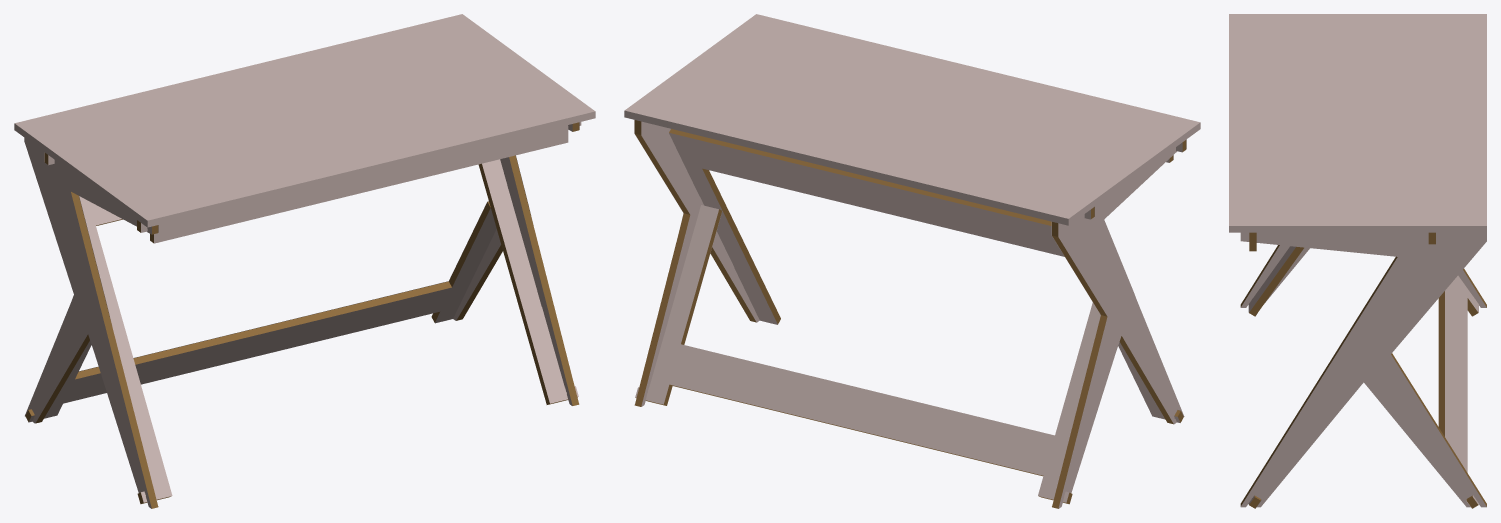
Rendered from NODO_ESCRITORIO_ESCULTORICO_PARAISO_AR_V14_YUP_CENTRADO.glb.
3 renders of one model, left to right at view 1: azimuth 30°, elevation 25°; view 2: azimuth 150°, elevation 25°; view 3: azimuth 270°, elevation 25°, orthographic. The views are drawn at different scales.
Parts seen in each view (by area): view 1: G_Tapa_Superior_CARAS_COLOR_REAL, B_Escuadra_Trasera_PIEL_LISA_-1, D_Lateral_Izq_PIEL_LISA_-1, F_Traba_Delantera_PIEL_LISA_-1, A_Escuadra_Delantera_cuerpo, G_Tapa_Superior_CANTO_MDF, B_Escuadra_Trasera_canto, D_Lateral_Izq_canto, A_Escuadra_Delantera_PIEL_LISA_-1, C_Lateral_Der_canto, D_Lateral_Izq_cuerpo, C_Lateral_Der_PIEL_LISA_-1 (+2 smaller); view 2: G_Tapa_Superior_CARAS_COLOR_REAL, B_Escuadra_Trasera_PIEL_LISA_1, A_Escuadra_Delantera_PIEL_LISA_1, D_Lateral_Izq_PIEL_LISA_-1, G_Tapa_Superior_CANTO_MDF, C_Lateral_Der_PIEL_LISA_-1, A_Escuadra_Delantera_canto, D_Lateral_Izq_canto, C_Lateral_Der_canto, A_Escuadra_Delantera_cuerpo, D_Lateral_Izq_cuerpo, B_Escuadra_Trasera_canto (+1 smaller); view 3: G_Tapa_Superior_CARAS_COLOR_REAL, C_Lateral_Der_PIEL_LISA_1, B_Escuadra_Trasera_PIEL_LISA_1, C_Lateral_Der_cuerpo, G_Tapa_Superior_CANTO_MDF, B_Escuadra_Trasera_canto, C_Lateral_Der_canto, D_Lateral_Izq_cuerpo, A_Escuadra_Delantera_canto, D_Lateral_Izq_PIEL_LISA_1.
Boxes of the visible parts, left/top/right/bottom form: G_Tapa_Superior_CARAS_COLOR_REAL: left=15, top=14, right=595, bottom=220; B_Escuadra_Trasera_PIEL_LISA_-1: left=29, top=208, right=496, bottom=422; D_Lateral_Izq_PIEL_LISA_-1: left=24, top=137, right=151, bottom=508; F_Traba_Delantera_PIEL_LISA_-1: left=141, top=122, right=581, bottom=243; A_Escuadra_Delantera_cuerpo: left=95, top=161, right=549, bottom=501; G_Tapa_Superior_CANTO_MDF: left=14, top=111, right=595, bottom=227; B_Escuadra_Trasera_canto: left=25, top=201, right=490, bottom=421; D_Lateral_Izq_canto: left=35, top=192, right=158, bottom=508; A_Escuadra_Delantera_PIEL_LISA_-1: left=79, top=159, right=578, bottom=502; C_Lateral_Der_canto: left=456, top=122, right=579, bottom=405; D_Lateral_Izq_cuerpo: left=25, top=192, right=151, bottom=508; C_Lateral_Der_PIEL_LISA_-1: left=453, top=124, right=572, bottom=405; G_Tapa_Superior_CARAS_COLOR_REAL: left=625, top=14, right=1199, bottom=218; B_Escuadra_Trasera_PIEL_LISA_1: left=635, top=205, right=1100, bottom=502; A_Escuadra_Delantera_PIEL_LISA_1: left=669, top=133, right=1180, bottom=422; D_Lateral_Izq_PIEL_LISA_-1: left=1058, top=169, right=1184, bottom=508; G_Tapa_Superior_CANTO_MDF: left=624, top=110, right=1200, bottom=225; C_Lateral_Der_PIEL_LISA_-1: left=641, top=121, right=759, bottom=406; A_Escuadra_Delantera_canto: left=669, top=129, right=1183, bottom=422; D_Lateral_Izq_canto: left=1052, top=222, right=1173, bottom=508; C_Lateral_Der_canto: left=634, top=120, right=756, bottom=406; A_Escuadra_Delantera_cuerpo: left=669, top=133, right=1180, bottom=422; D_Lateral_Izq_cuerpo: left=1058, top=147, right=1183, bottom=508; B_Escuadra_Trasera_canto: left=646, top=209, right=1072, bottom=504; G_Tapa_Superior_CARAS_COLOR_REAL: left=1229, top=14, right=1486, bottom=225; C_Lateral_Der_PIEL_LISA_1: left=1240, top=232, right=1486, bottom=507; B_Escuadra_Trasera_PIEL_LISA_1: left=1445, top=275, right=1478, bottom=504; C_Lateral_Der_cuerpo: left=1241, top=232, right=1486, bottom=506; G_Tapa_Superior_CANTO_MDF: left=1229, top=226, right=1486, bottom=232; B_Escuadra_Trasera_canto: left=1438, top=291, right=1478, bottom=508; C_Lateral_Der_canto: left=1240, top=256, right=1486, bottom=506; D_Lateral_Izq_cuerpo: left=1240, top=245, right=1486, bottom=307; A_Escuadra_Delantera_canto: left=1249, top=247, right=1303, bottom=508; D_Lateral_Izq_PIEL_LISA_1: left=1241, top=245, right=1486, bottom=307.
Size of what is drawn, in the model's own units: 1.22 by 0.7686 by 0.628.
2 materials, 2 textured.
